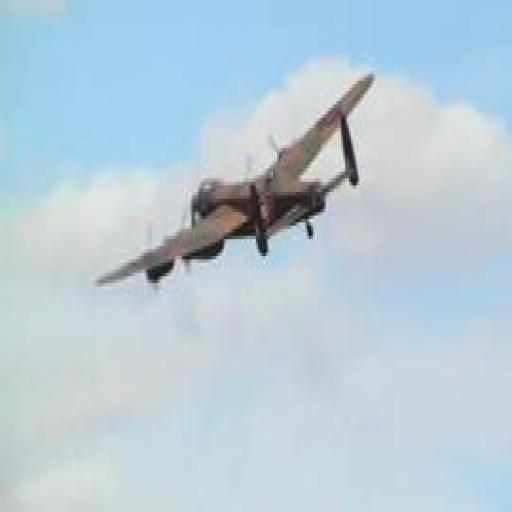aircraft: (95, 74, 375, 290)
